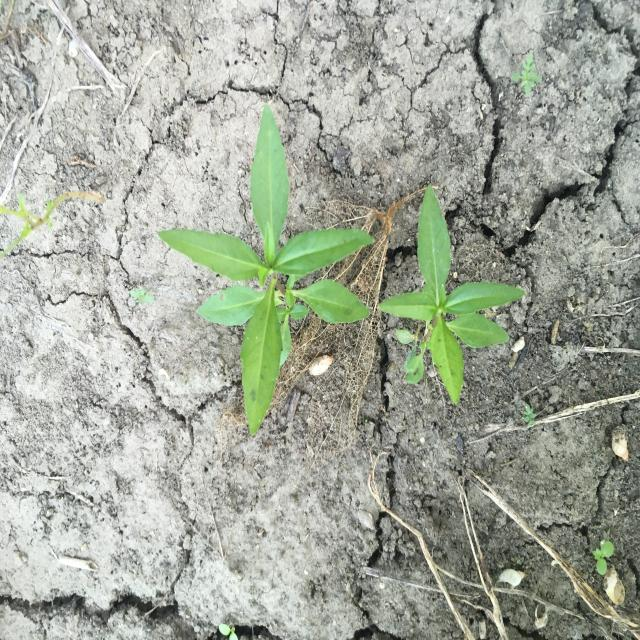Eclipta: (155, 105, 377, 437), (374, 172, 526, 407)
Ragweed: (509, 49, 544, 99)
